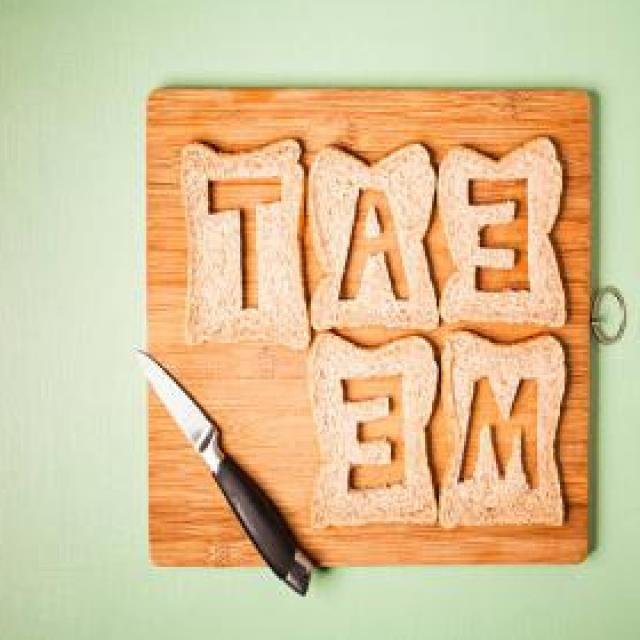knife: (134, 350, 311, 614)
